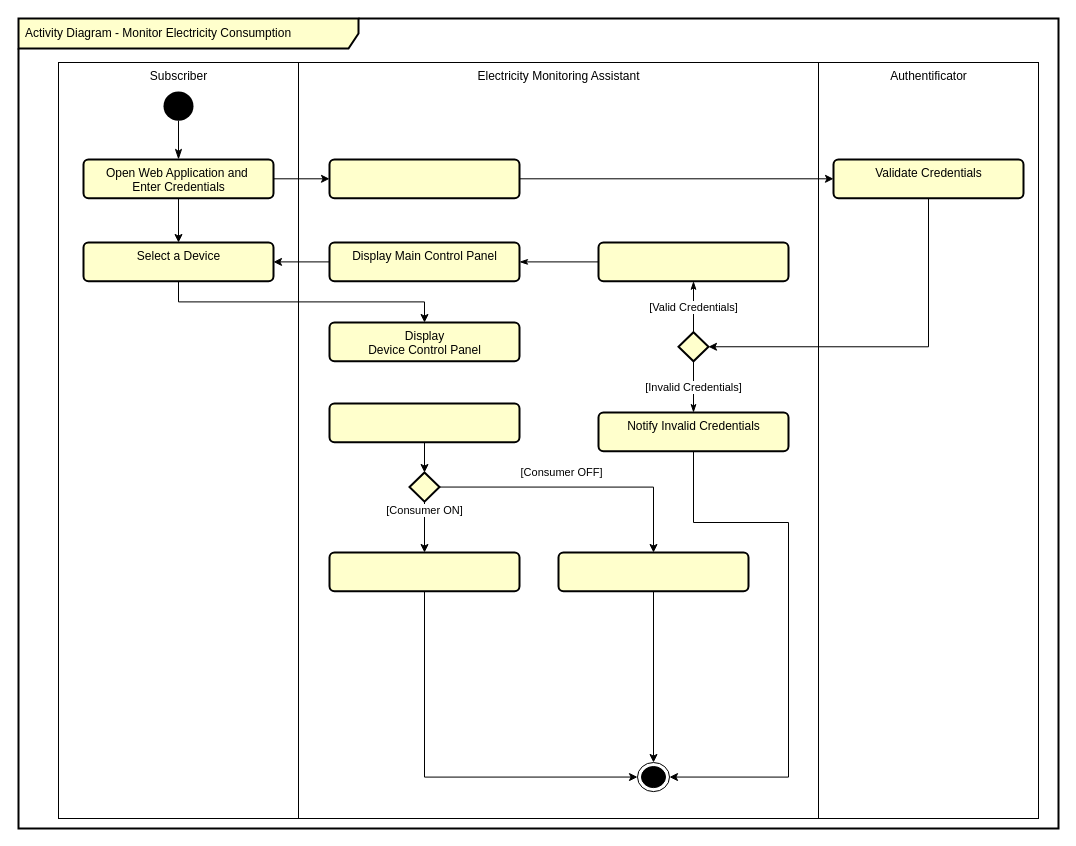
Some shapes in this 1076 by 846 pixel diagram are drawn without their labels. The shapes that lost their labels are listed below. From the top down, each one's centre as x and y in pixels, then its label:
[424,178]: Make credentials validation request
[693,261]: Fetch User Profile
[424,422]: Display Monitor Consumption
[424,571]: Display Current Consumption
[653,571]: Notify User Consumer is OFF
